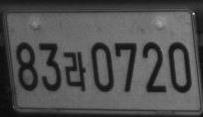0: (168, 40, 192, 94), (90, 41, 114, 93)
2: (141, 40, 166, 92)
3: (38, 42, 62, 91)
7: (115, 42, 137, 91)
8: (14, 40, 38, 92)
라: (63, 51, 87, 92)
